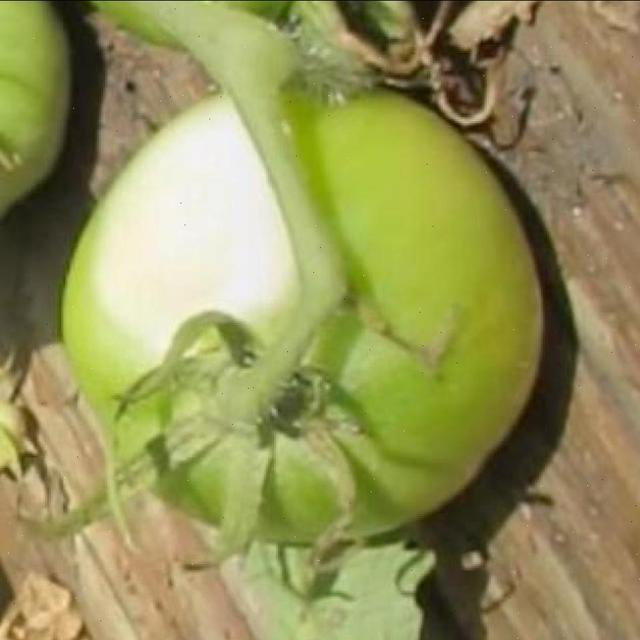Sunscald Fruit: (51, 57, 212, 231)
